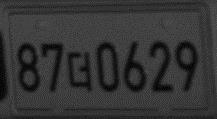0: (95, 41, 121, 92)
2: (148, 40, 175, 93)
6: (121, 39, 148, 92)
7: (41, 42, 66, 93)
8: (15, 42, 42, 92)
9: (174, 39, 201, 94)
더: (65, 50, 94, 92)
